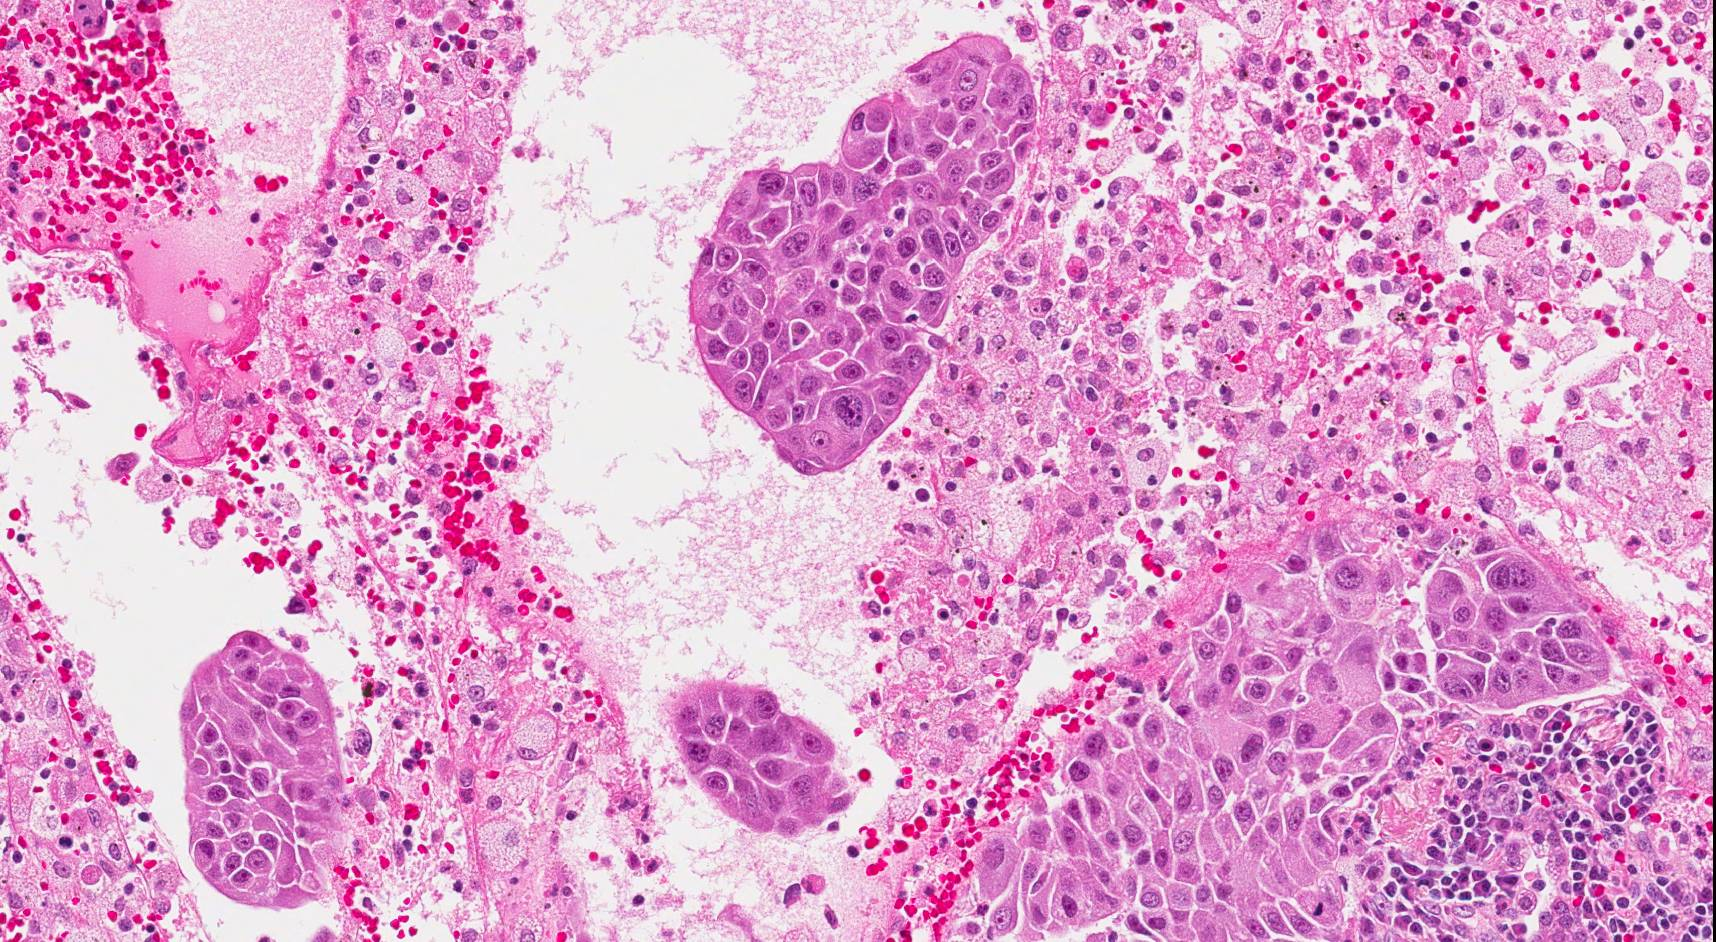stas: (680, 33, 1046, 481), (174, 625, 346, 910), (671, 677, 862, 837)
